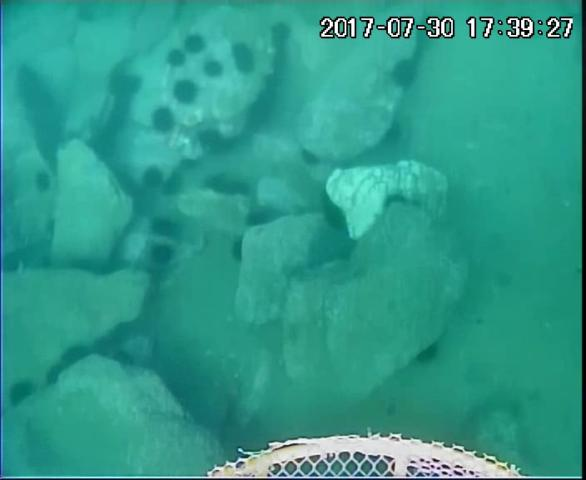echinus: (33, 119, 64, 161), (24, 87, 60, 122), (106, 73, 147, 103), (391, 57, 422, 93), (148, 105, 179, 139), (229, 42, 258, 78), (14, 63, 41, 101), (88, 133, 120, 165), (7, 379, 36, 413), (324, 204, 352, 239), (244, 207, 283, 231), (146, 213, 181, 239), (169, 81, 201, 109), (140, 166, 169, 194), (179, 32, 208, 58), (148, 242, 178, 267), (199, 58, 227, 84), (268, 23, 297, 48), (90, 335, 117, 361), (161, 171, 185, 200), (200, 175, 228, 199), (298, 146, 325, 170), (223, 179, 253, 200), (227, 237, 248, 267), (164, 48, 189, 72), (45, 365, 71, 387), (63, 346, 94, 364), (112, 349, 139, 369), (36, 170, 53, 193)
